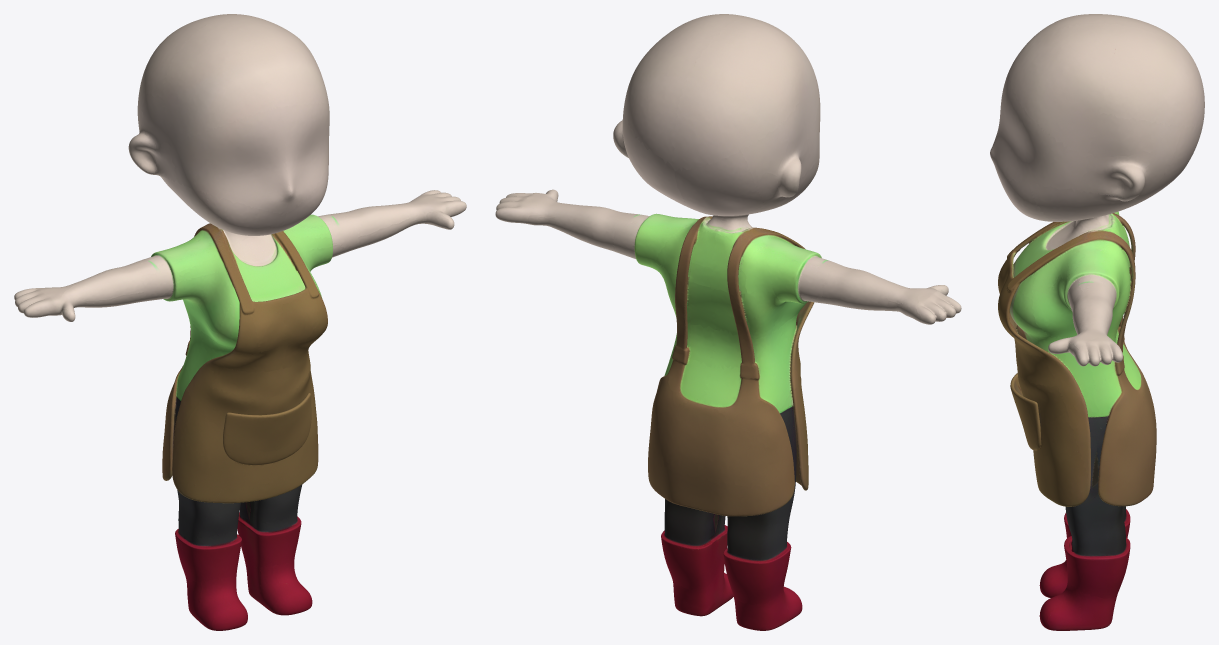
The model's file is baked_outfit_garden.glb.
The picture shows the model from 3 angles, left to right: view 1: azimuth 30°, elevation 25°; view 2: azimuth 150°, elevation 25°; view 3: azimuth 270°, elevation 25°; orthographic projection. The views are drawn at different scales.
Bounding box in the file's own units: 1.53 × 1.9 × 0.6358.
1 material, 1 textured.
